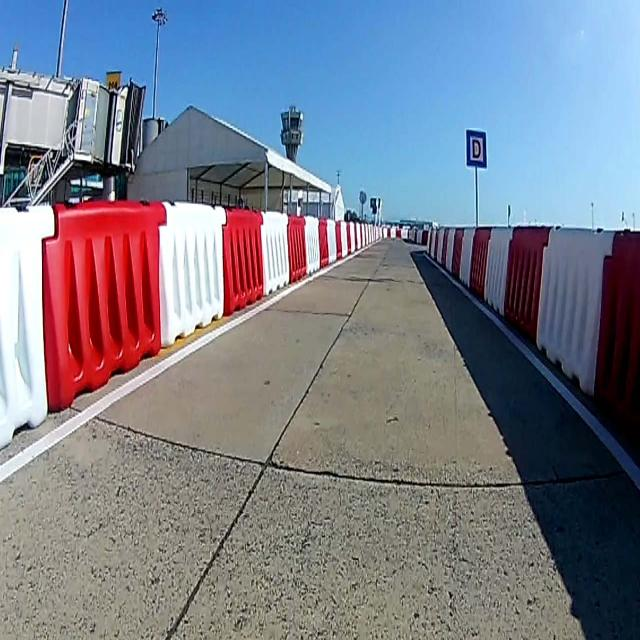durak: (466, 127, 486, 169)
